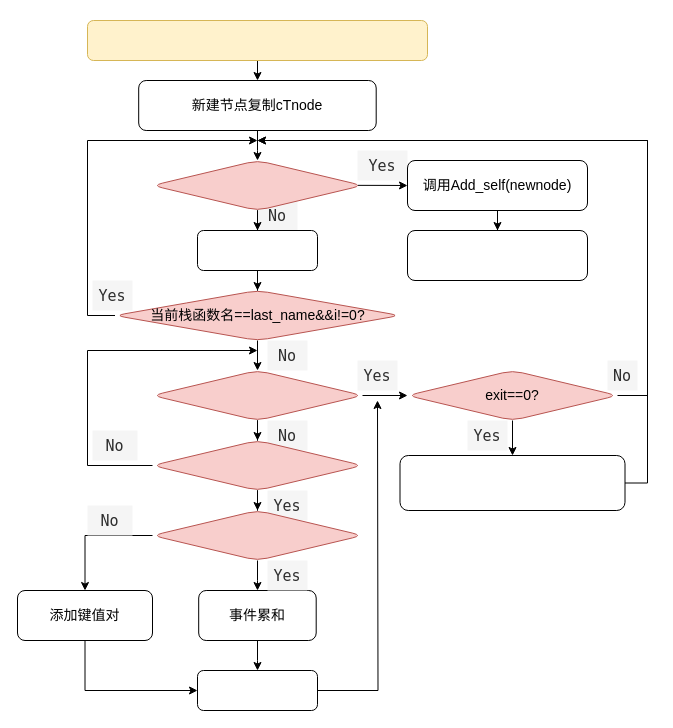
Some shapes in this 673 by 728 pixel diagram are drawn without their labels. The shapes that lost their labels are listed below. From the top down, each one's box as (x1, y1, x2, y2) in pixels, then its label:
(86, 20, 428, 60): iter_get_self(cTnode CallTreeNode) string
(152, 160, 362, 210): ctnode是叶节点？
(196, 230, 318, 270): exit：=0
(406, 230, 588, 280): return cTnode的symbolname
(152, 370, 362, 420): 遍历funclist的节点列表,结束？
(152, 440, 362, 490): 当前栈函数名==节点函数名？
(399, 454, 625, 510): 创建新节点保存当前栈信息 添加到funclist节点列表中
(152, 510, 362, 560): 节点存在tmp_event事件？
(196, 670, 318, 710): exit=1; break
